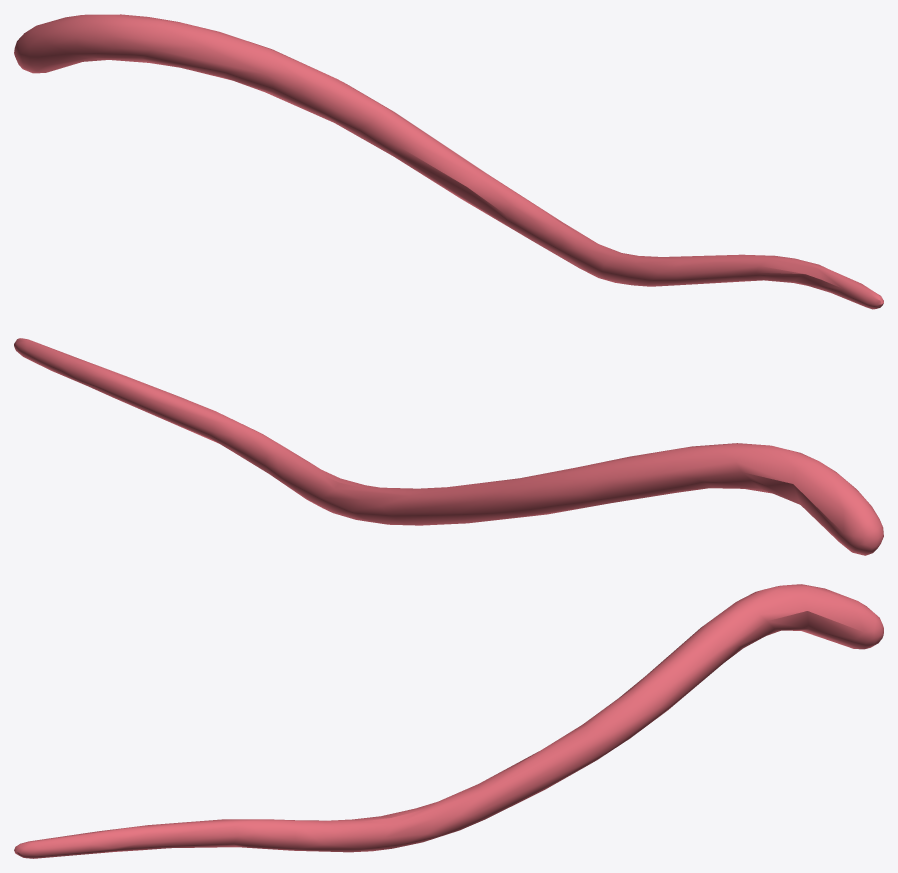
Rendered from fma66447_fj5117.glb.
3 renders of one model, top to bottom at view 1: azimuth 30°, elevation 25°; view 2: azimuth 210°, elevation 25°; view 3: azimuth 270°, elevation 25°, orthographic. The views are drawn at different scales.
Visible parts, largest first — view 1: FMA66447_FJ5117; view 2: FMA66447_FJ5117; view 3: FMA66447_FJ5117.
Boxes of the visible parts, x1=… form: FMA66447_FJ5117: x1=14, y1=14, x2=883, y2=309; FMA66447_FJ5117: x1=14, y1=338, x2=883, y2=555; FMA66447_FJ5117: x1=14, y1=584, x2=883, y2=858.
Bounding box in the file's own units: 0.0251 × 0.00841 × 0.0454.
